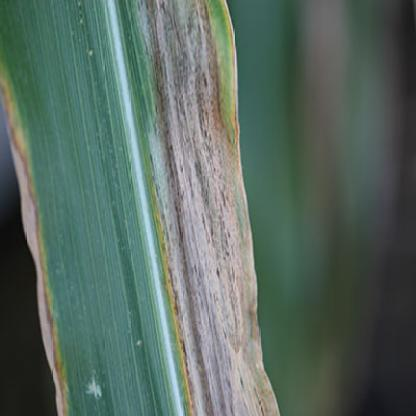Corn leaf blight: (3, 1, 267, 414)
